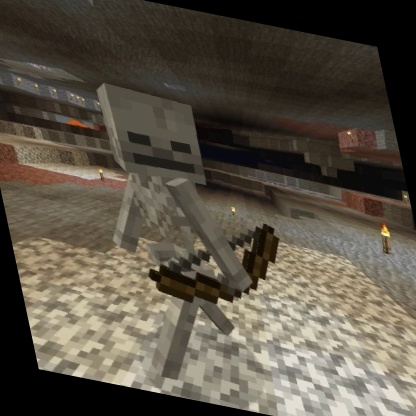skeleton: (72, 72, 319, 413)
